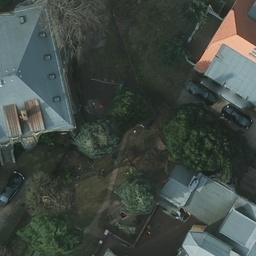car: (1, 170, 27, 204), (185, 81, 216, 109), (221, 105, 251, 129)
